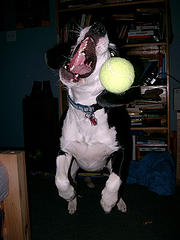tennis ball: (100, 56, 135, 94)
